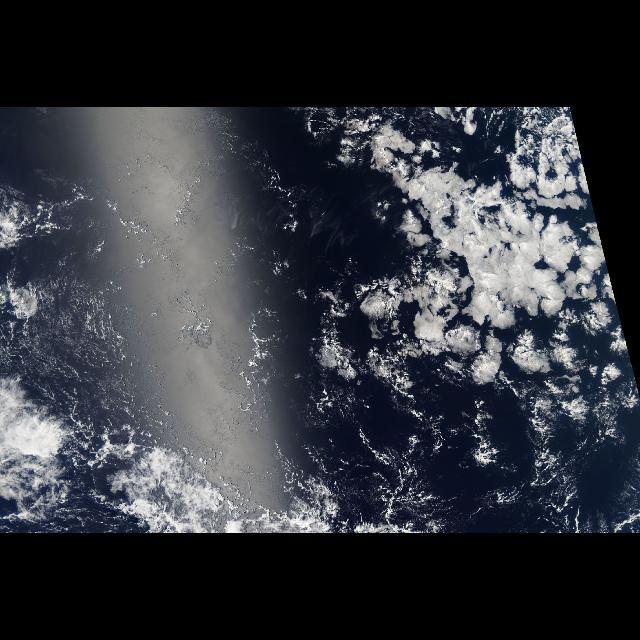Gravel: (12, 411, 200, 523)
Sugar: (5, 280, 165, 412)
